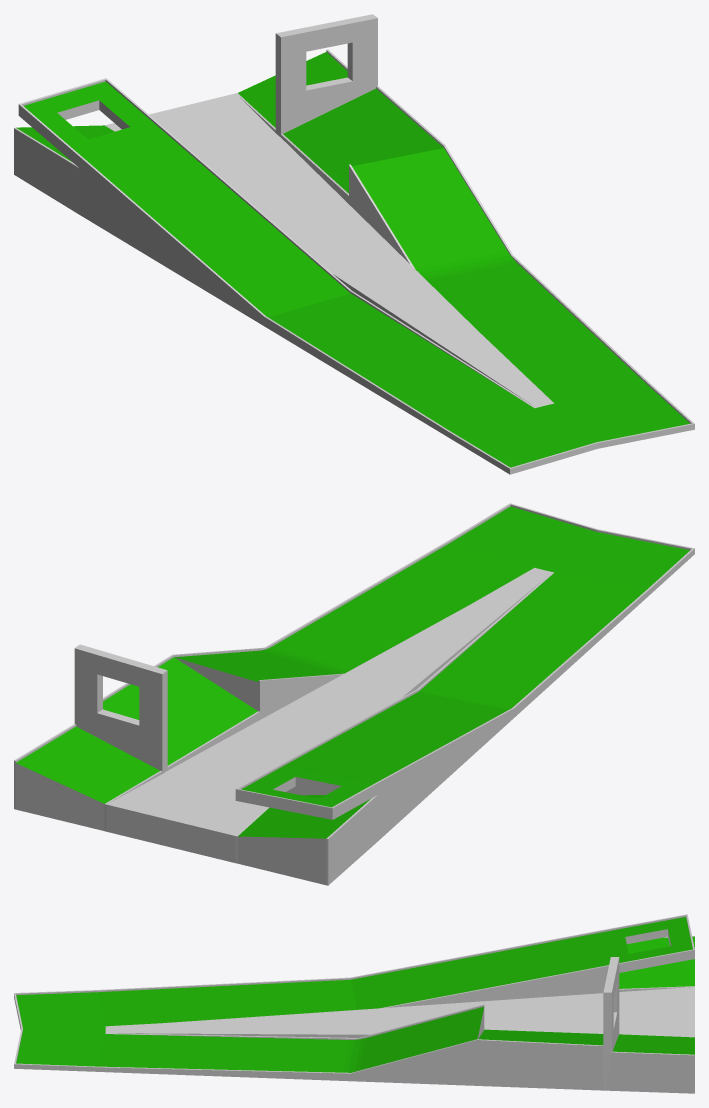
Rendered from Golf.fbx.
3 views of the same model, one above another, from view 1: azimuth 30°, elevation 25°; view 2: azimuth 150°, elevation 25°; view 3: azimuth 270°, elevation 25° (orthographic). The views are drawn at different scales.
Parts seen in each view (by area): view 1: MiniGolfLevel; view 2: MiniGolfLevel; view 3: MiniGolfLevel.
Boxes of the visible parts, left/top/right/bottom form: MiniGolfLevel: left=14, top=14, right=694, bottom=474; MiniGolfLevel: left=14, top=503, right=694, bottom=885; MiniGolfLevel: left=14, top=914, right=694, bottom=1093.
Bounding box in the file's own units: 339 × 128 × 806.
